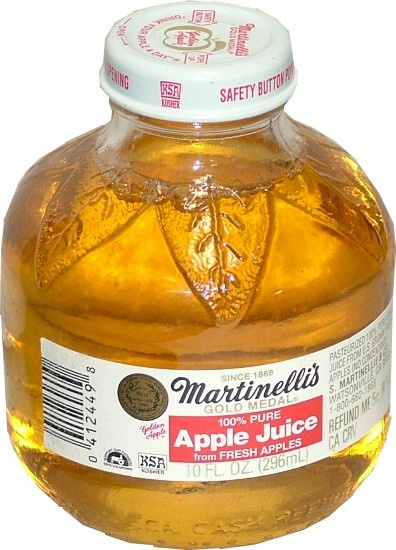grozi_53: (0, 0, 395, 550)
